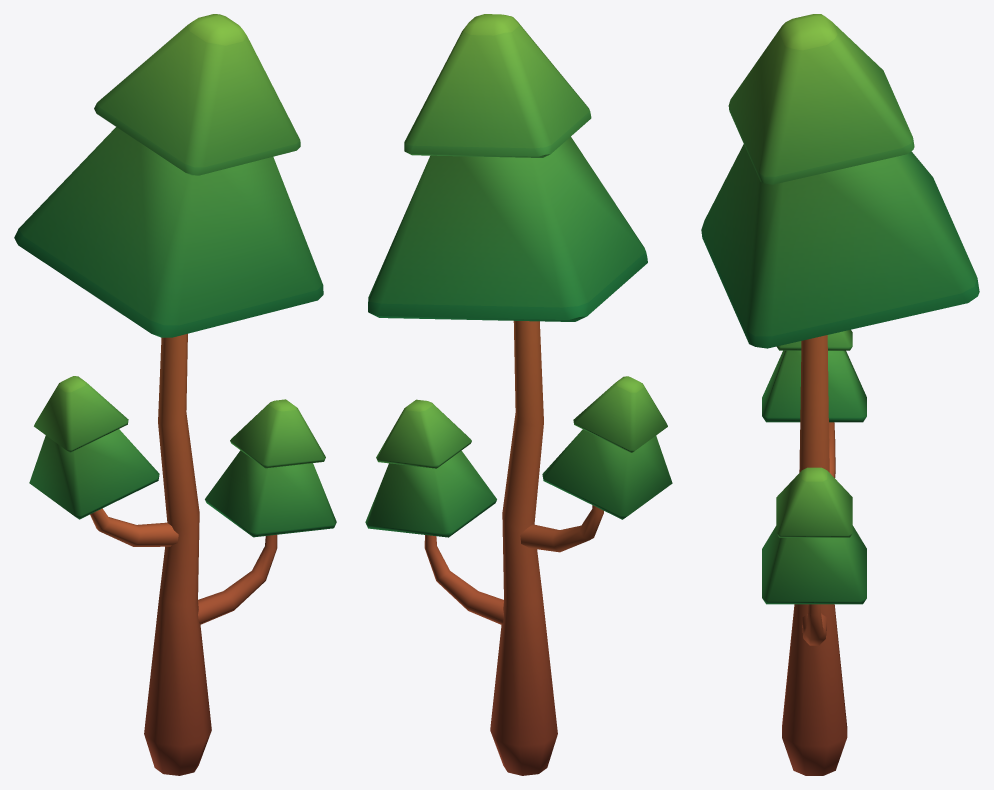
The model's file is Tree_4_B_Color1.glb.
3 views of the same model, side by side, from view 1: azimuth 30°, elevation 25°; view 2: azimuth 150°, elevation 25°; view 3: azimuth 270°, elevation 25° (orthographic). The views are drawn at different scales.
Visible parts, largest first — view 1: Tree_4_B_Color1; view 2: Tree_4_B_Color1; view 3: Tree_4_B_Color1.
Boxes of the visible parts, x1,y1,x2,y2 form: Tree_4_B_Color1: [14, 14, 336, 775]; Tree_4_B_Color1: [365, 14, 672, 775]; Tree_4_B_Color1: [701, 14, 979, 775].
Size of the model in its own units: 2.57 by 6.94 by 2.27.
Materials: 1 (1 with a texture image).
